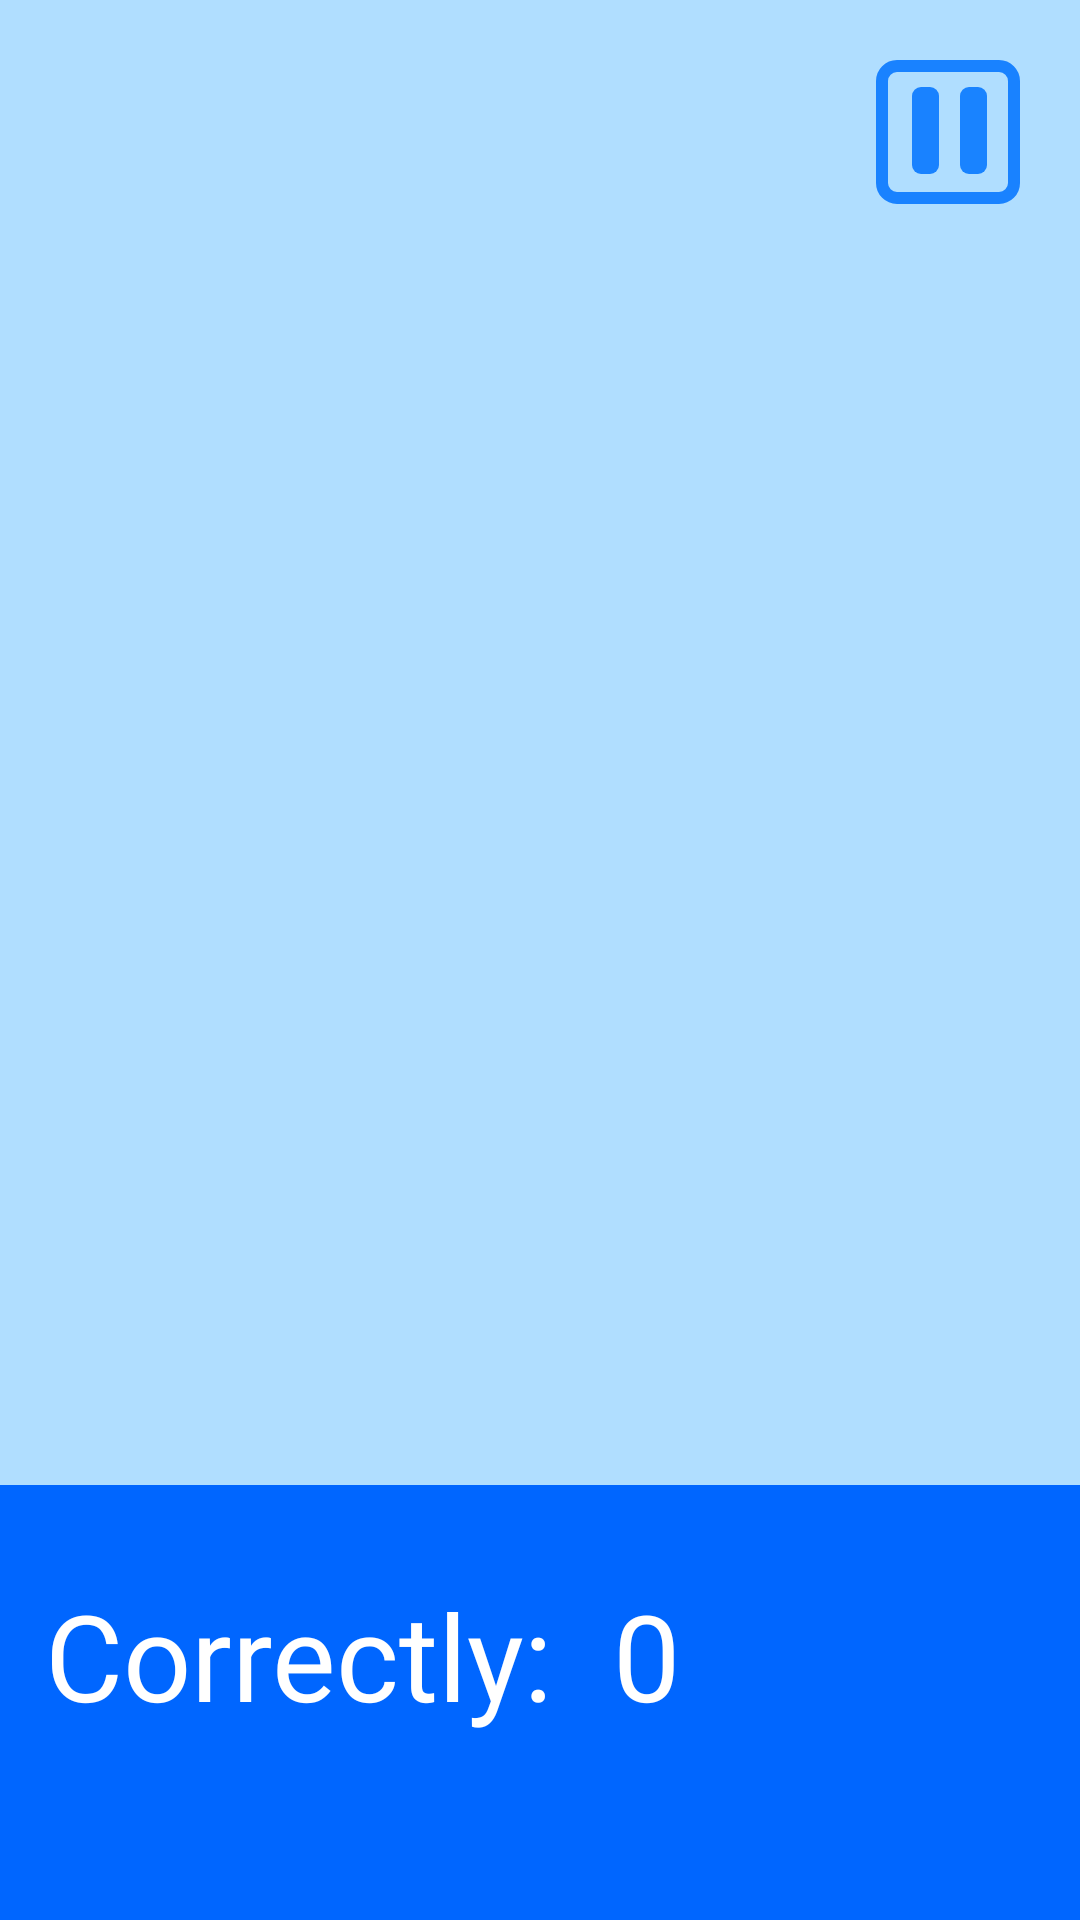

Locate icon controls on the screen. Image size 1080x1920, boxes as (x1, y1, x2, y2).
pause: (876, 60, 1020, 204)
